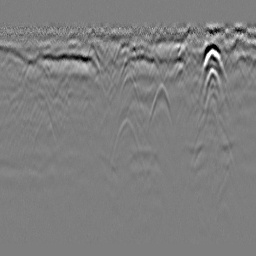cavity: (118, 70, 141, 107)
